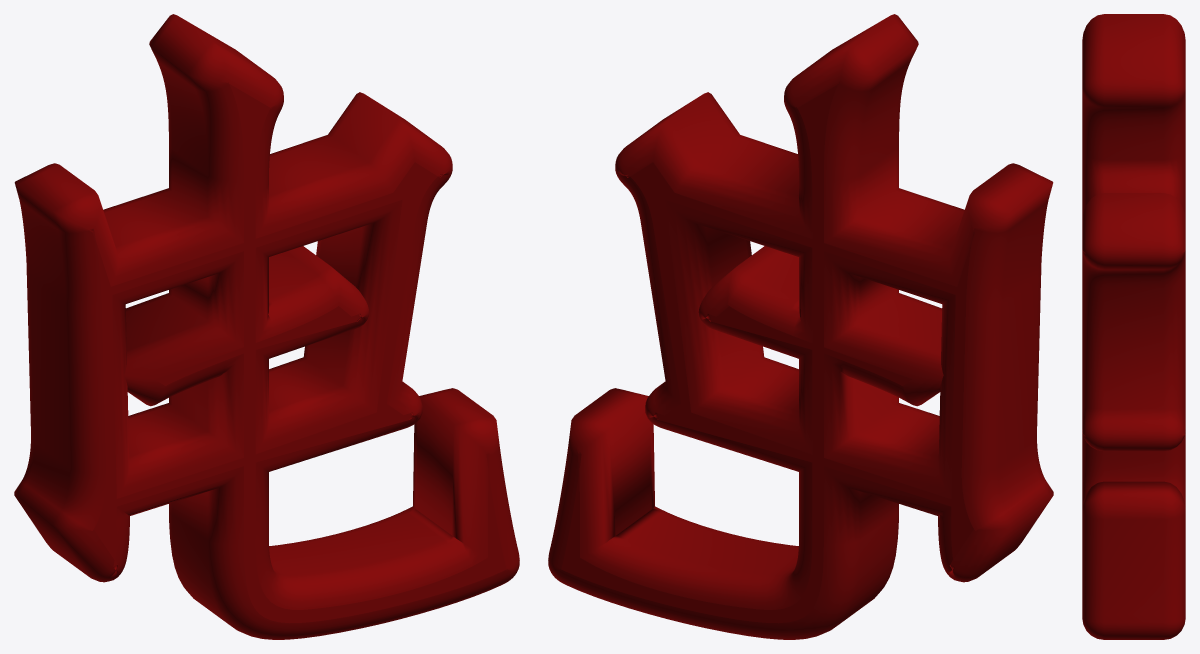
Rendered from dian.fbx.
3 renders of one model, left to right at view 1: azimuth 30°, elevation 25°; view 2: azimuth 150°, elevation 25°; view 3: azimuth 270°, elevation 25°, orthographic. The views are drawn at different scales.
Visible parts, largest first — view 1: dian; view 2: dian; view 3: dian.
Part boxes in pixels (x1,y1,x2,y2): dian: [14, 14, 519, 639]; dian: [548, 14, 1053, 639]; dian: [1082, 14, 1185, 639].
Bounding box in the file's own units: 60.45 × 77.26 × 14.
